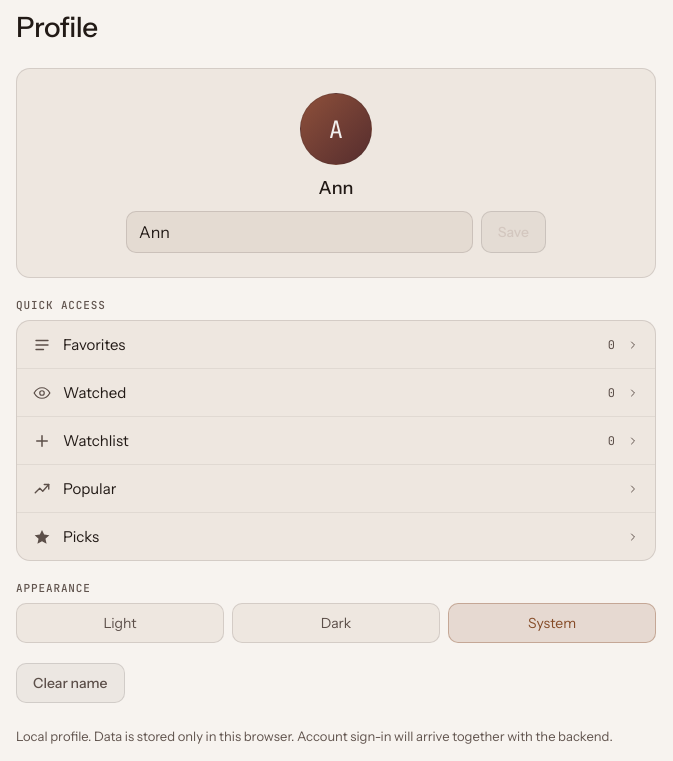
Profile › черновик с пробелами по краям поверх другого имени сохраняется тримленным, инпут пересинхронизируется
Replace the text in the field named "Display name" with "  Bob  " at {"x": 299, "y": 232}, box 126,211 -> 473,253
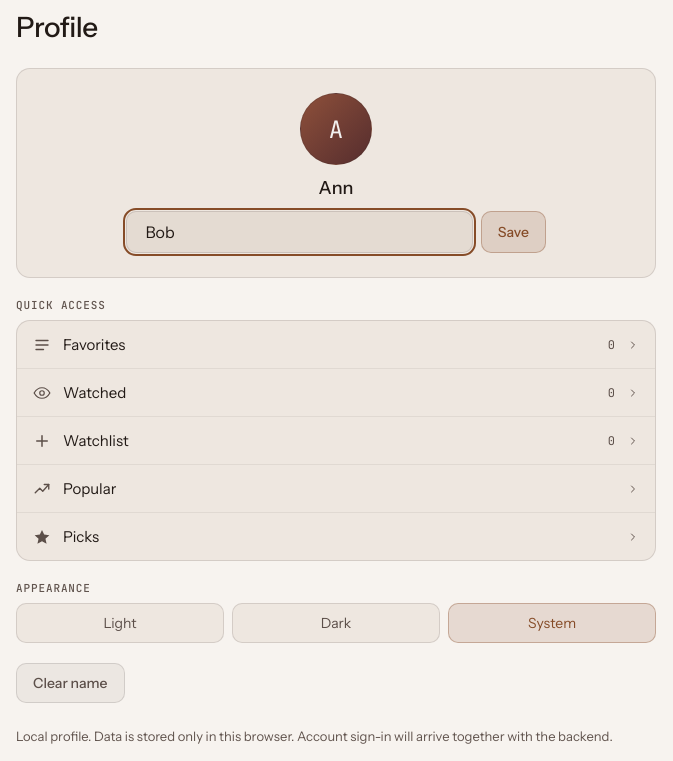
expect the button "Save" is enabled: met
Click the button "Save" at {"x": 513, "y": 232}, box 481,211 -> 546,253
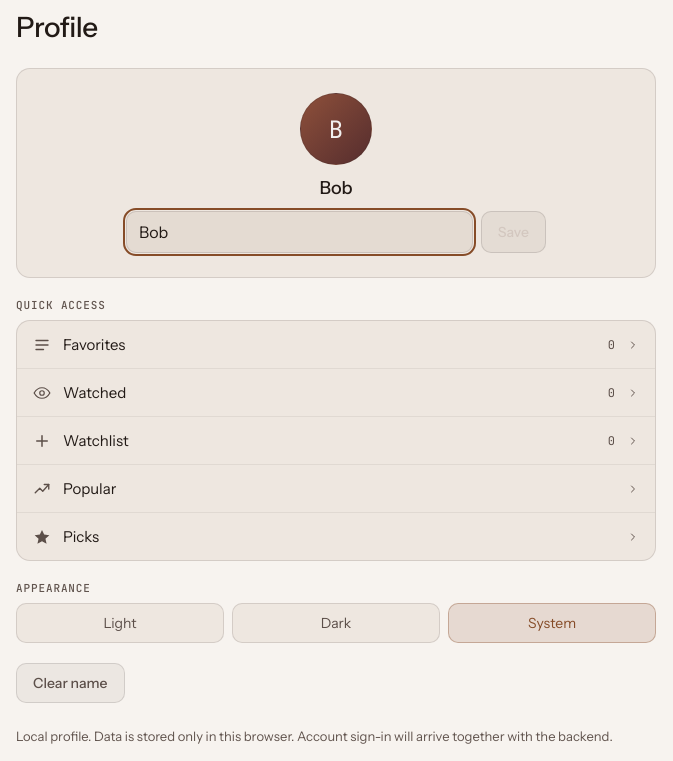
expect the text "Bob" is shown: met, box 319,177 -> 353,199
expect the button "Save" is disabled: met, box 481,211 -> 546,253
